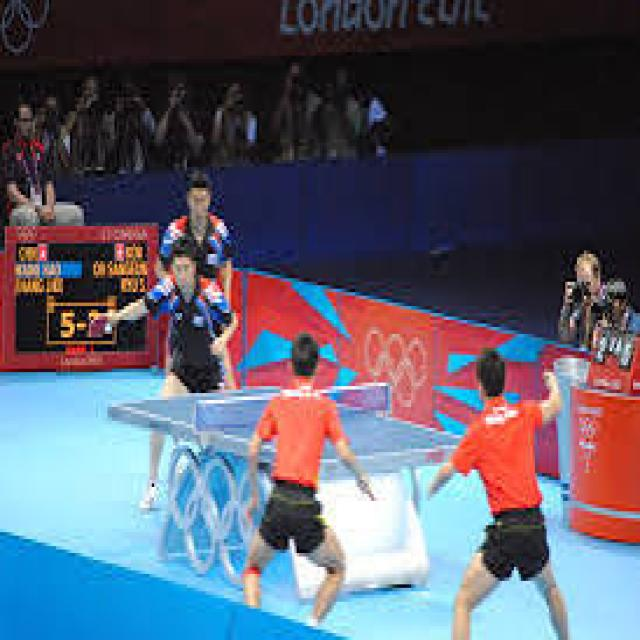TT Net: (193, 382, 394, 441)
TT Racket: (85, 309, 113, 348), (353, 476, 379, 508)
TT Table: (110, 384, 481, 464)
